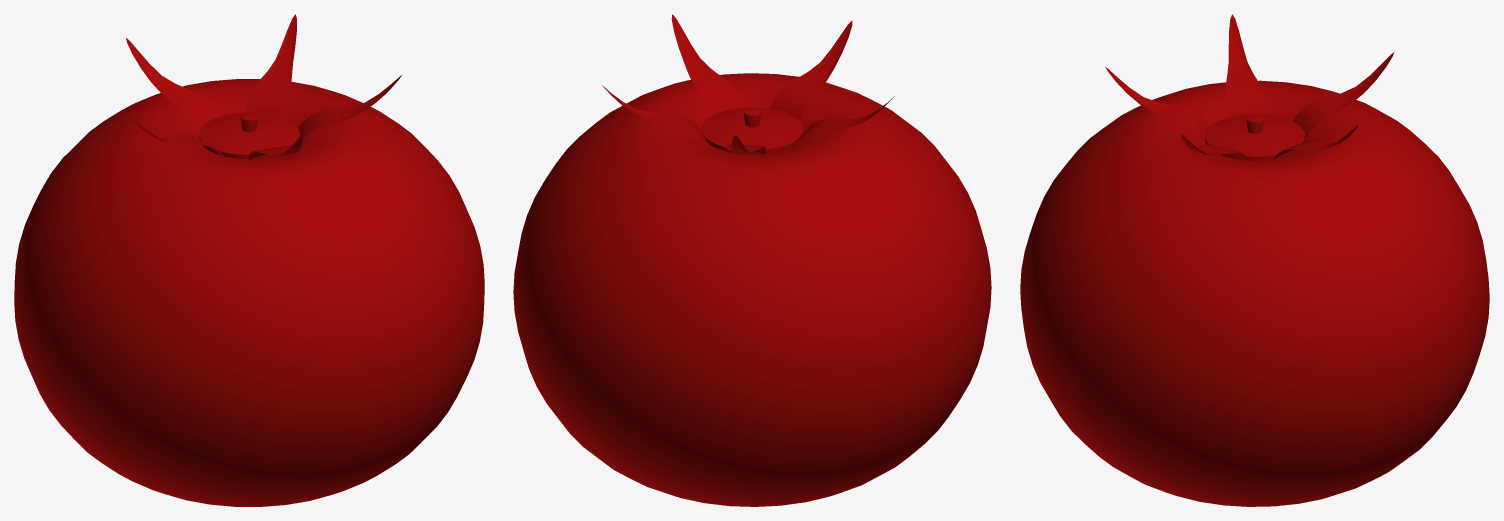
Rendered from TOMATOES.fbx.
3 views of the same model, side by side, from view 1: azimuth 30°, elevation 25°; view 2: azimuth 150°, elevation 25°; view 3: azimuth 270°, elevation 25° (orthographic).
Parts seen in each view (by area): view 1: tomatoes.001; view 2: tomatoes.001; view 3: tomatoes.001.
Part boxes in pixels (bbox=[...]): tomatoes.001: bbox=[14, 14, 484, 506]; tomatoes.001: bbox=[513, 14, 991, 506]; tomatoes.001: bbox=[1020, 14, 1489, 506].
Size of the model in its own units: 25.45 by 23.53 by 25.45.
